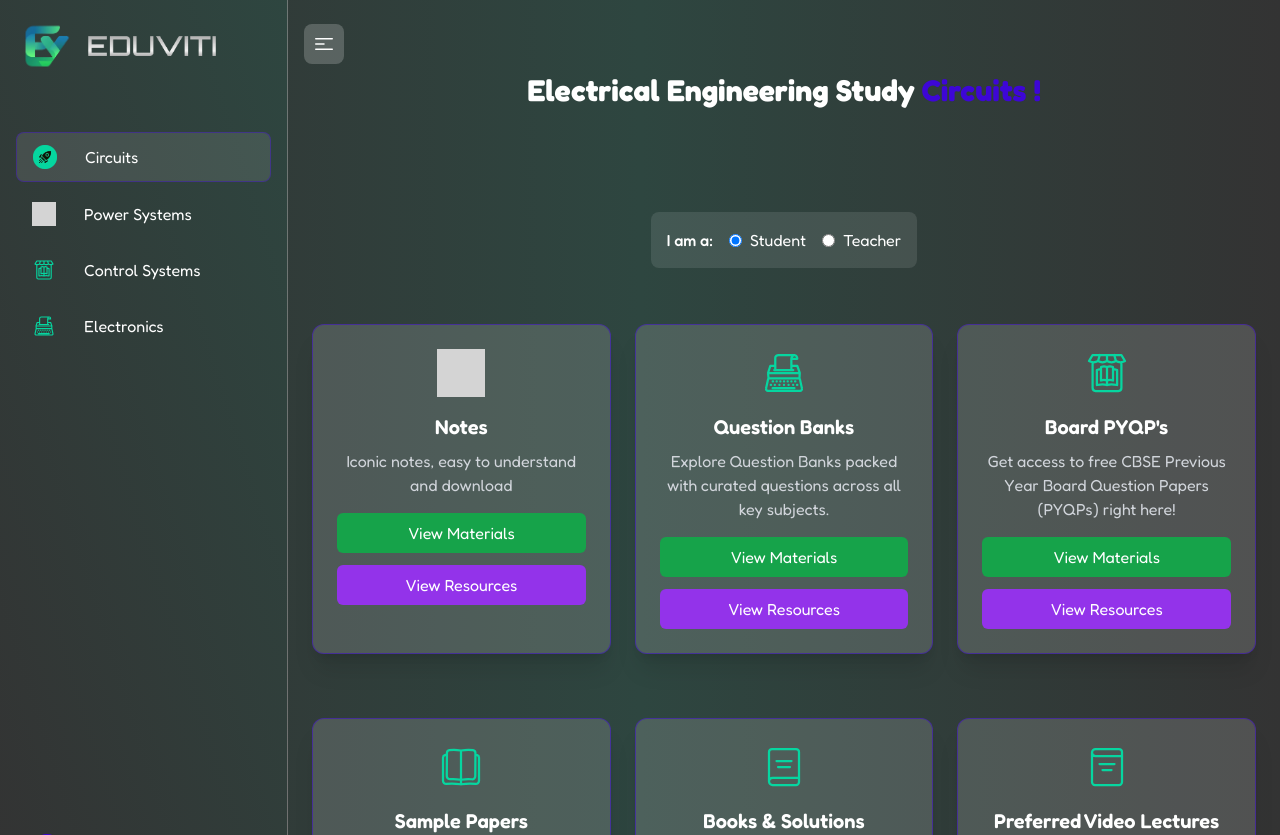
Study Resources - Electrical Engineering Section › renders Electrical Engineering page with subjects and upload button for teacher
This screenshot has width=1280, height=835.
Click the radio button labelled "Teacher": click(828, 240) [822, 234, 835, 246]
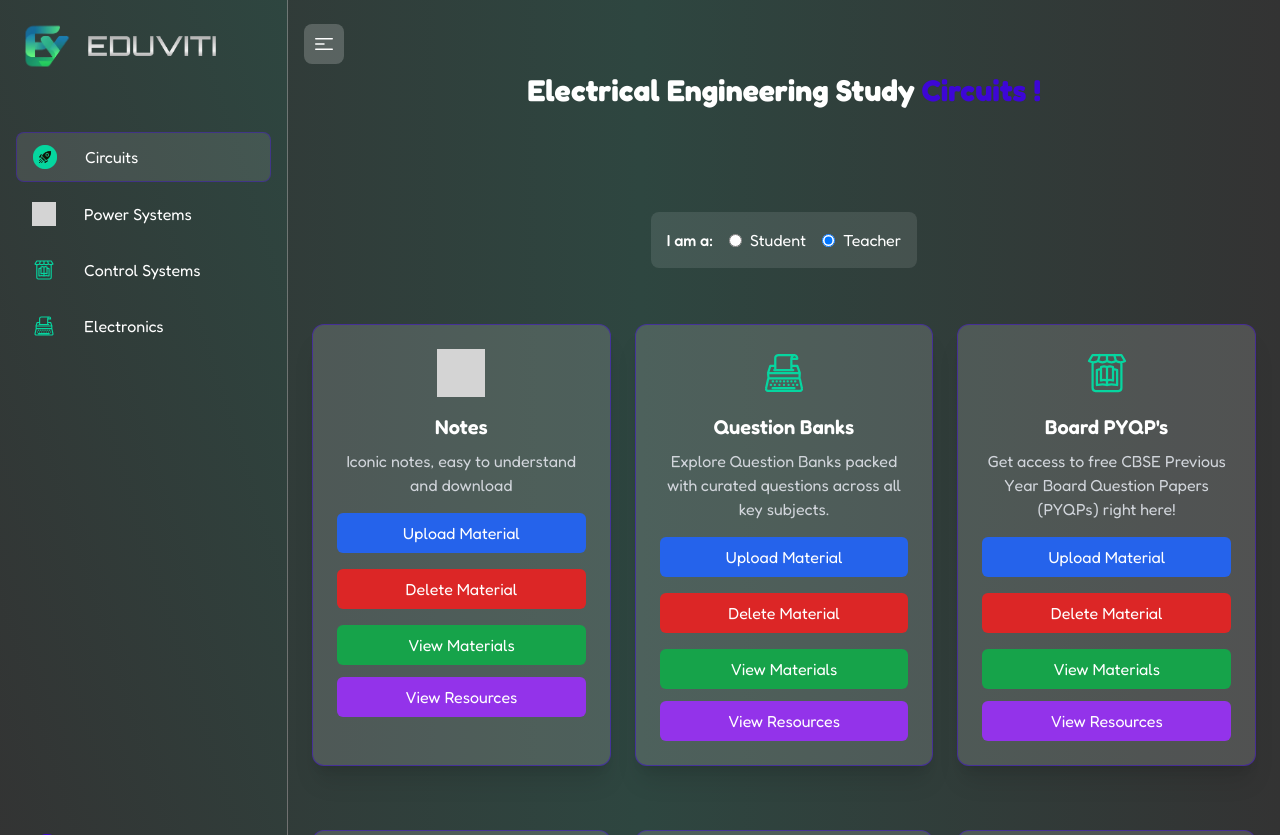
Result: the 1st button "Upload Material" is shown at [337, 513, 586, 553]
Result: the 1st button "Delete Material" is shown at [337, 569, 586, 609]
